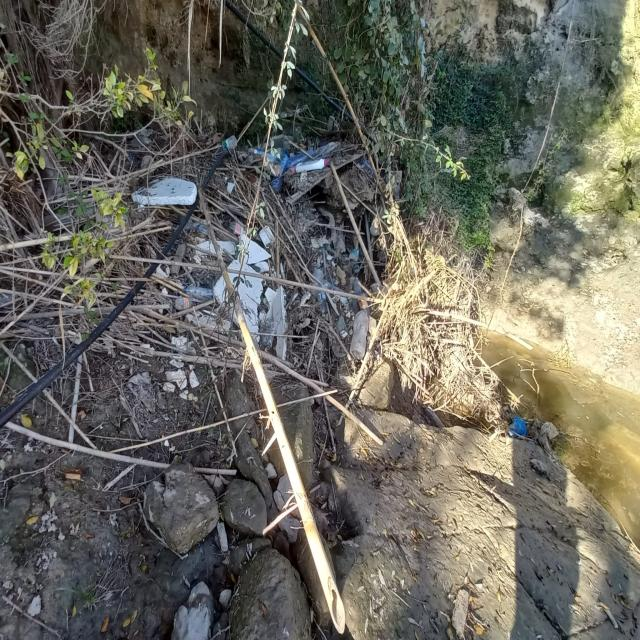Bottle: (349, 309, 369, 360), (272, 150, 289, 192), (286, 149, 318, 170), (182, 284, 212, 301), (248, 148, 279, 164), (296, 159, 328, 173), (311, 268, 323, 297), (227, 220, 246, 238), (357, 293, 371, 316), (174, 297, 196, 311), (323, 279, 344, 292), (222, 135, 237, 150), (318, 291, 327, 313), (354, 278, 363, 294)
Other litter: (263, 134, 337, 163), (259, 223, 275, 252), (357, 159, 374, 178), (349, 246, 360, 264)
Other plastic: (0, 149, 229, 431), (331, 315, 349, 357), (509, 416, 526, 439), (185, 219, 208, 235), (353, 265, 360, 274)
Styrofoam piece: (211, 259, 265, 343), (257, 285, 289, 361), (131, 174, 197, 205), (162, 359, 201, 402), (238, 232, 273, 272), (185, 309, 234, 334), (193, 237, 236, 261), (172, 334, 199, 355), (226, 181, 236, 195), (140, 344, 156, 351)
